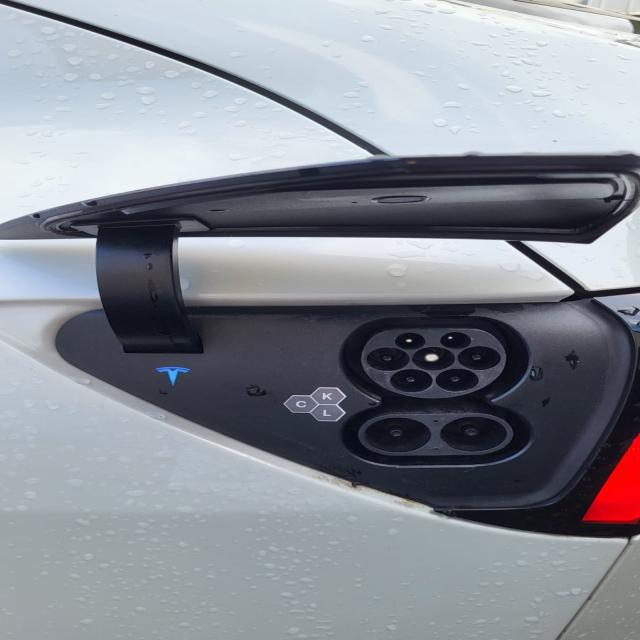inlet: (361, 329, 506, 398)
inlet-above-left: (395, 333, 426, 349)
inlet-above-right: (440, 332, 471, 349)
inlet-below-left: (390, 369, 433, 393)
inlet-below-right: (435, 369, 480, 392)
inlet-circle: (411, 347, 455, 371)
inlet-circle-left: (366, 347, 410, 371)
inlet-circle-right: (458, 346, 501, 370)
inlet-minus: (440, 417, 508, 452)
inlet-plus: (365, 417, 432, 453)
